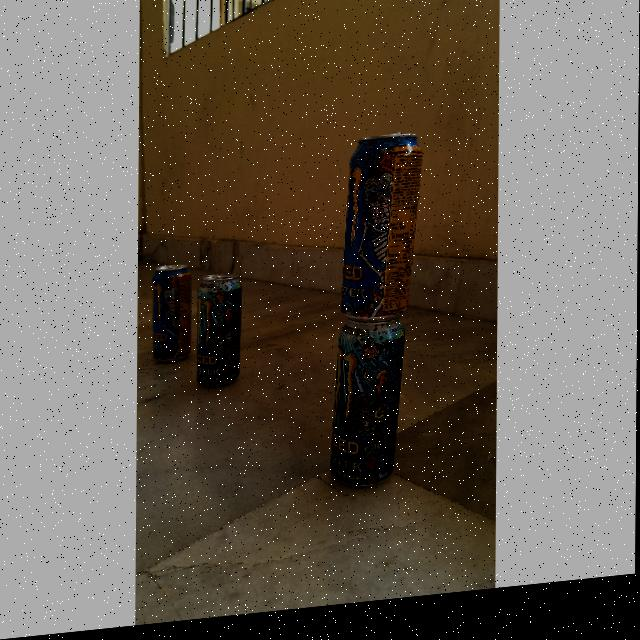Monster Aussie Lemonade: (332, 324, 407, 498), (196, 279, 242, 391)
Monster Mango Loco: (343, 138, 424, 331), (153, 266, 193, 369)
